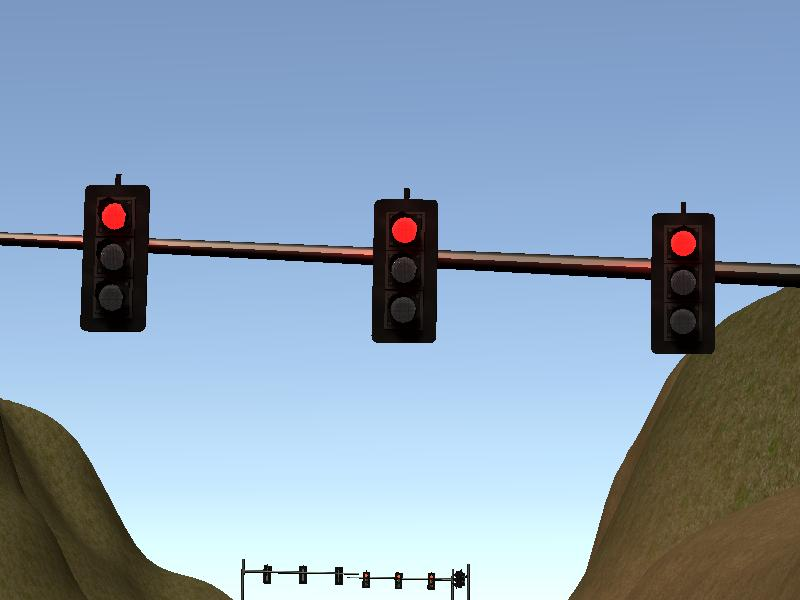Red: (376, 197, 436, 343), (86, 184, 145, 331), (653, 213, 714, 353)
